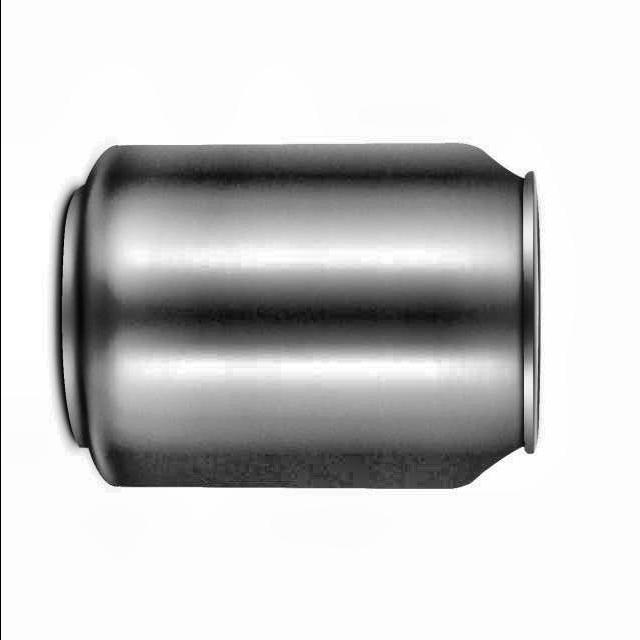litter: (52, 135, 550, 502)
